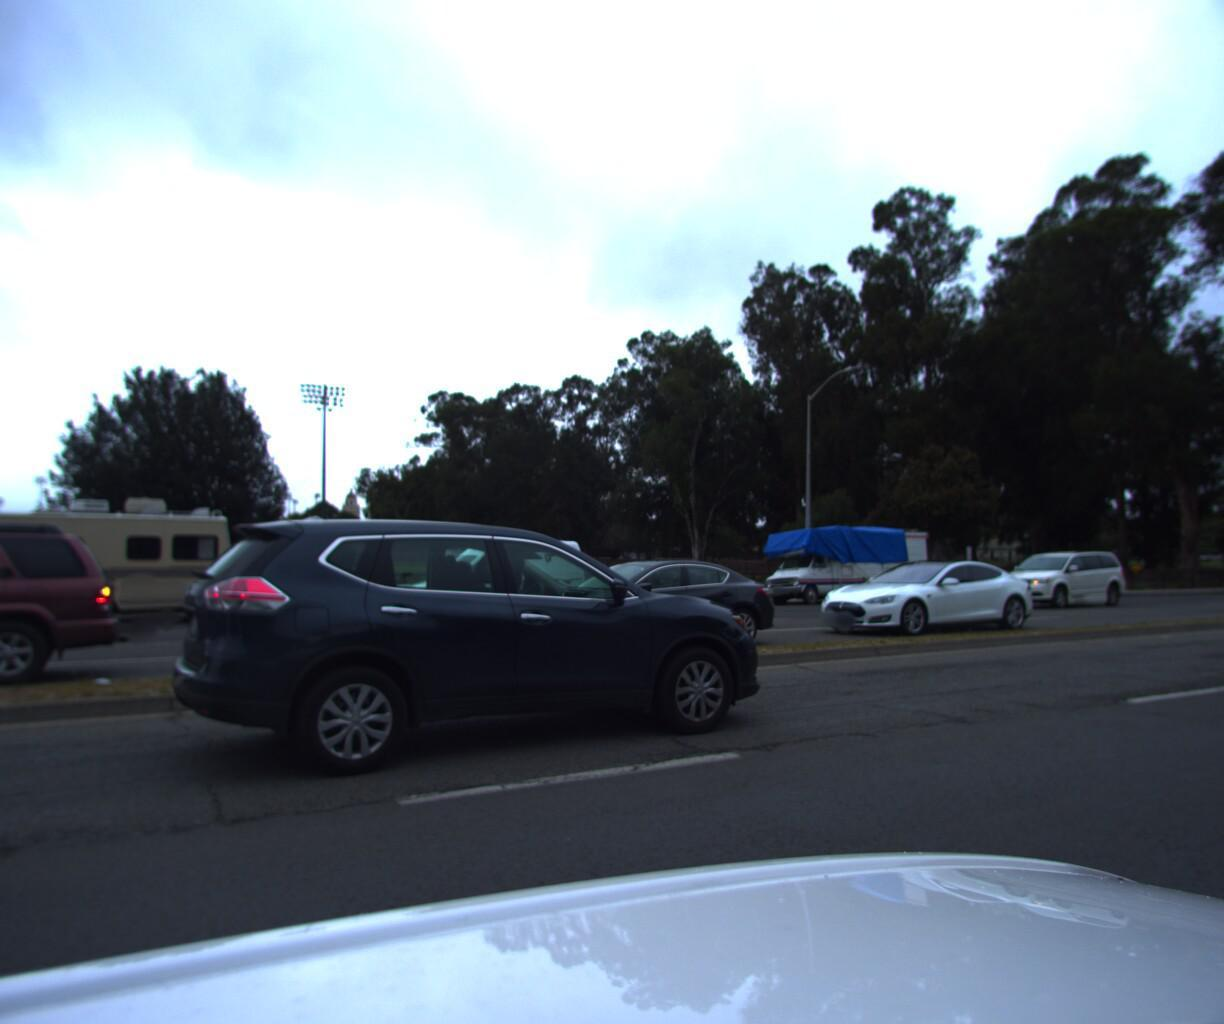car: (167, 503, 779, 815), (477, 552, 799, 666), (0, 530, 133, 742), (801, 551, 1049, 637), (373, 539, 590, 633), (981, 539, 1133, 610), (1217, 502, 1224, 778), (1221, 535, 1224, 607)
other_vehicle: (0, 494, 263, 645), (749, 516, 936, 606)
